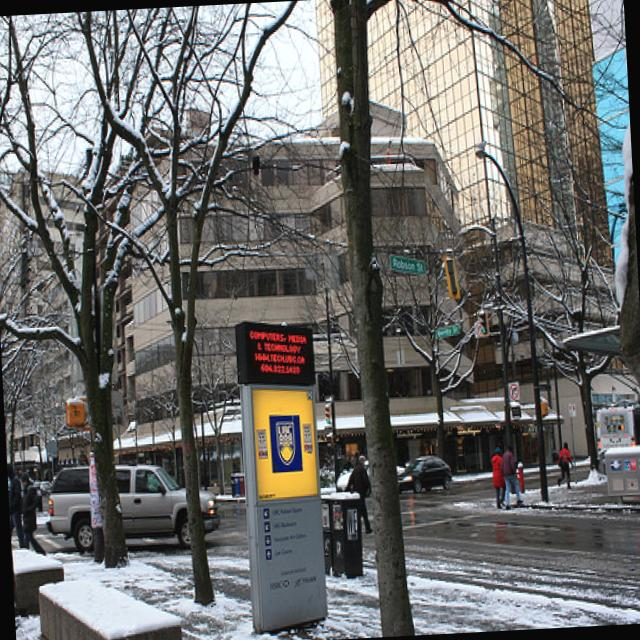Vehicle: (113, 460, 220, 552), (396, 454, 453, 494), (336, 460, 370, 490), (320, 466, 337, 494), (35, 480, 53, 496), (396, 464, 407, 476)
